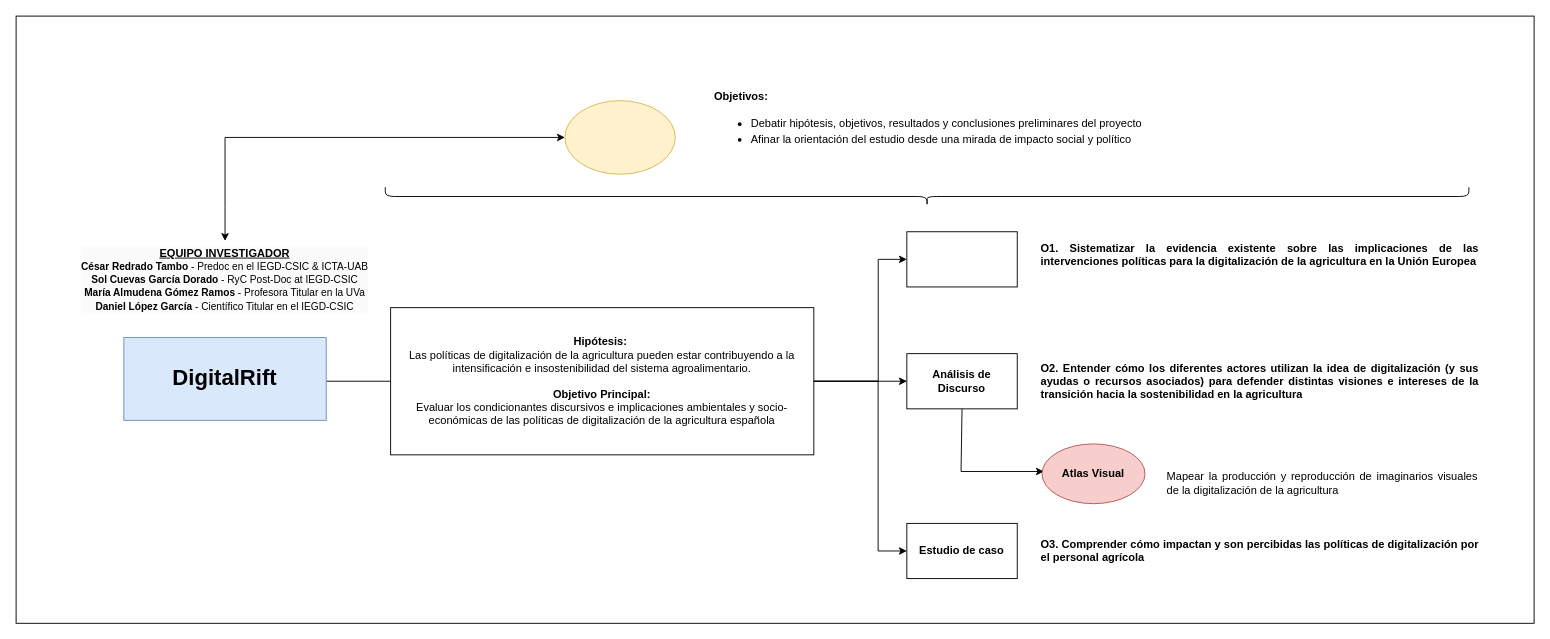
Some shapes in this 1550 by 639 pixel diagram are drawn without their labels. The shapes that lost their labels are listed below. From the top down, each one's centre as x and y in pixels, then its label:
the point at 619,137: Consejo Asesor
the point at 961,259: Revisión de Literatura
